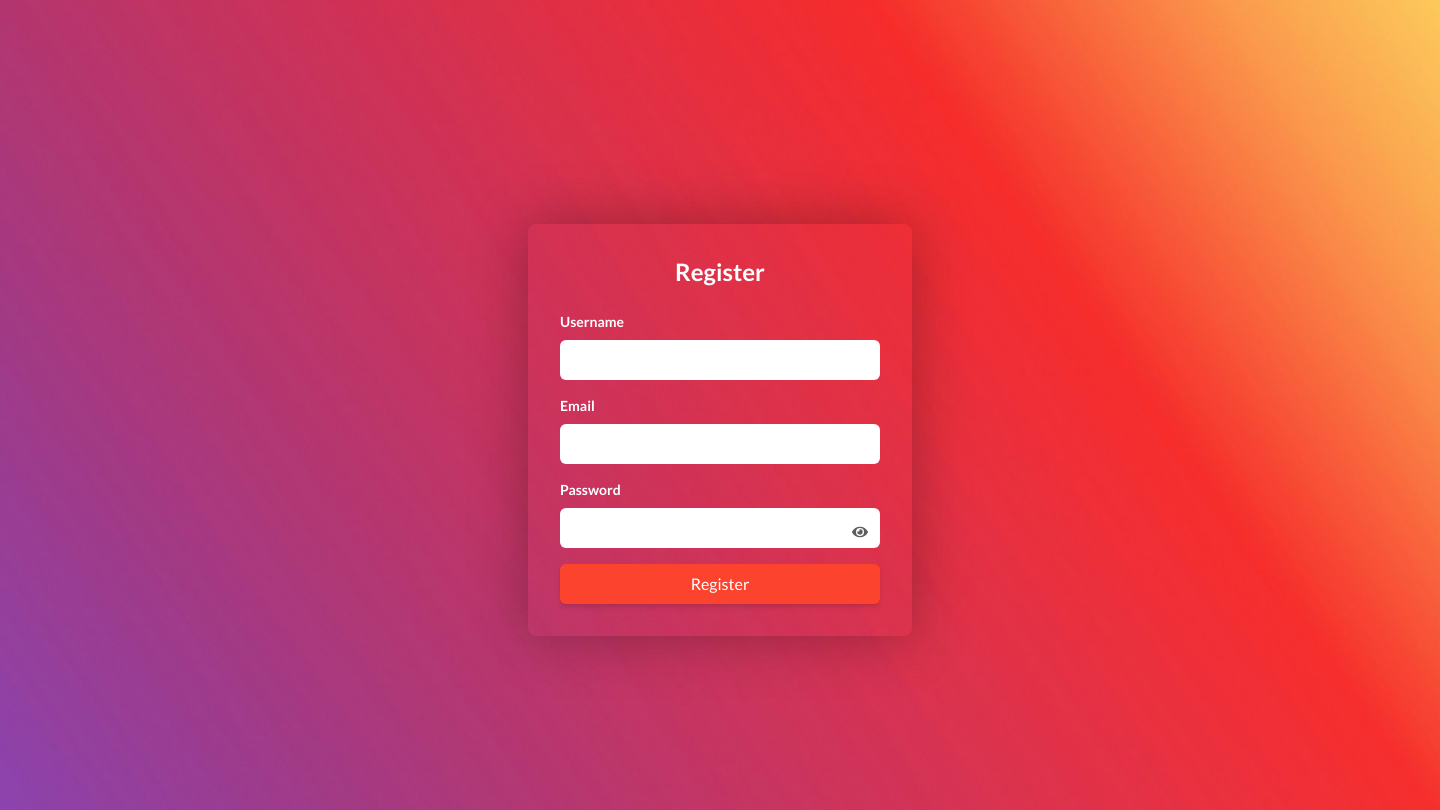
Scenario: Register › registers successfully and shows success message
The image size is (1440, 810).
In the field labelled "Username": [720, 360] box [560,340,880,380], type "alice"
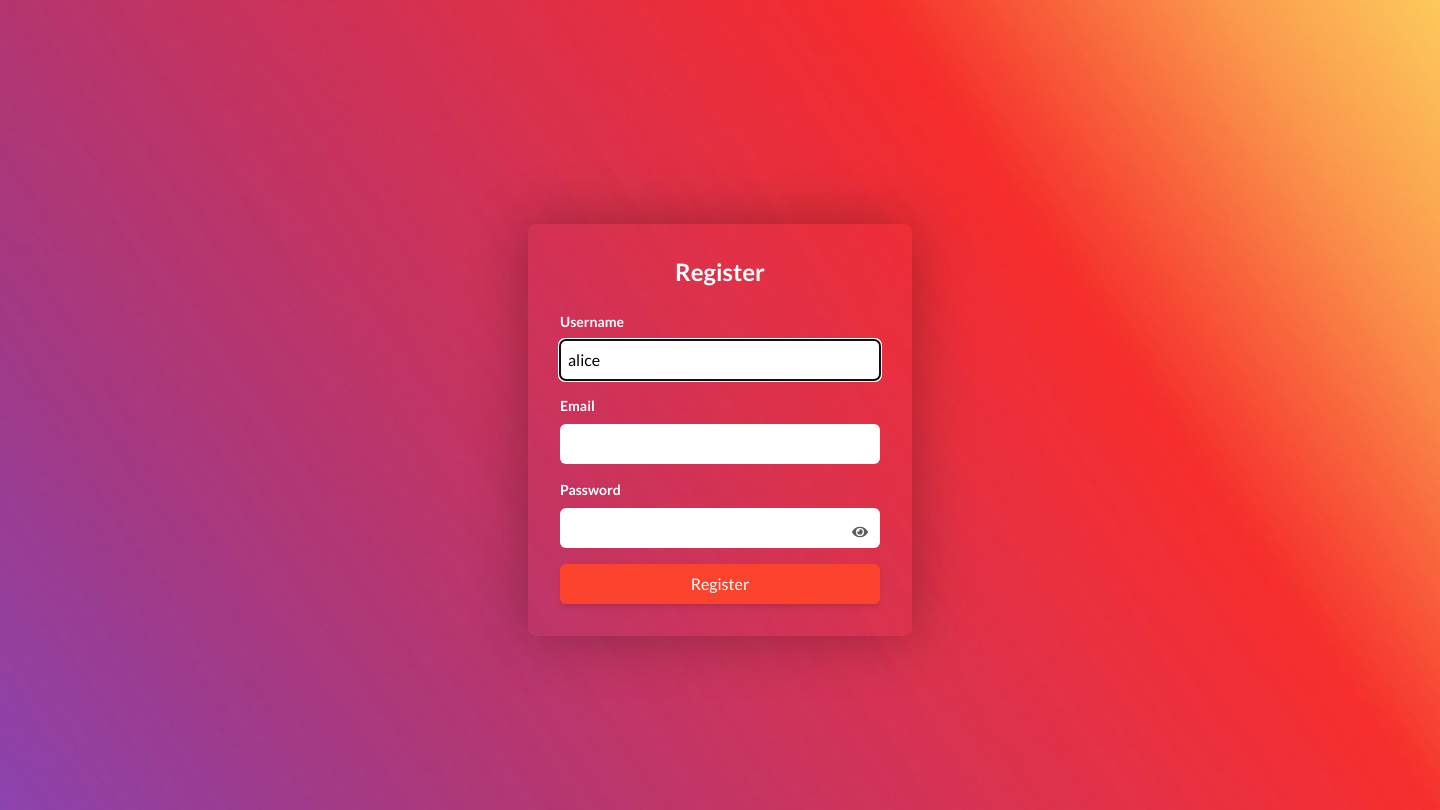
In the field labelled "Email": [720, 444] box [560,424,880,464], type "alice@example.com"
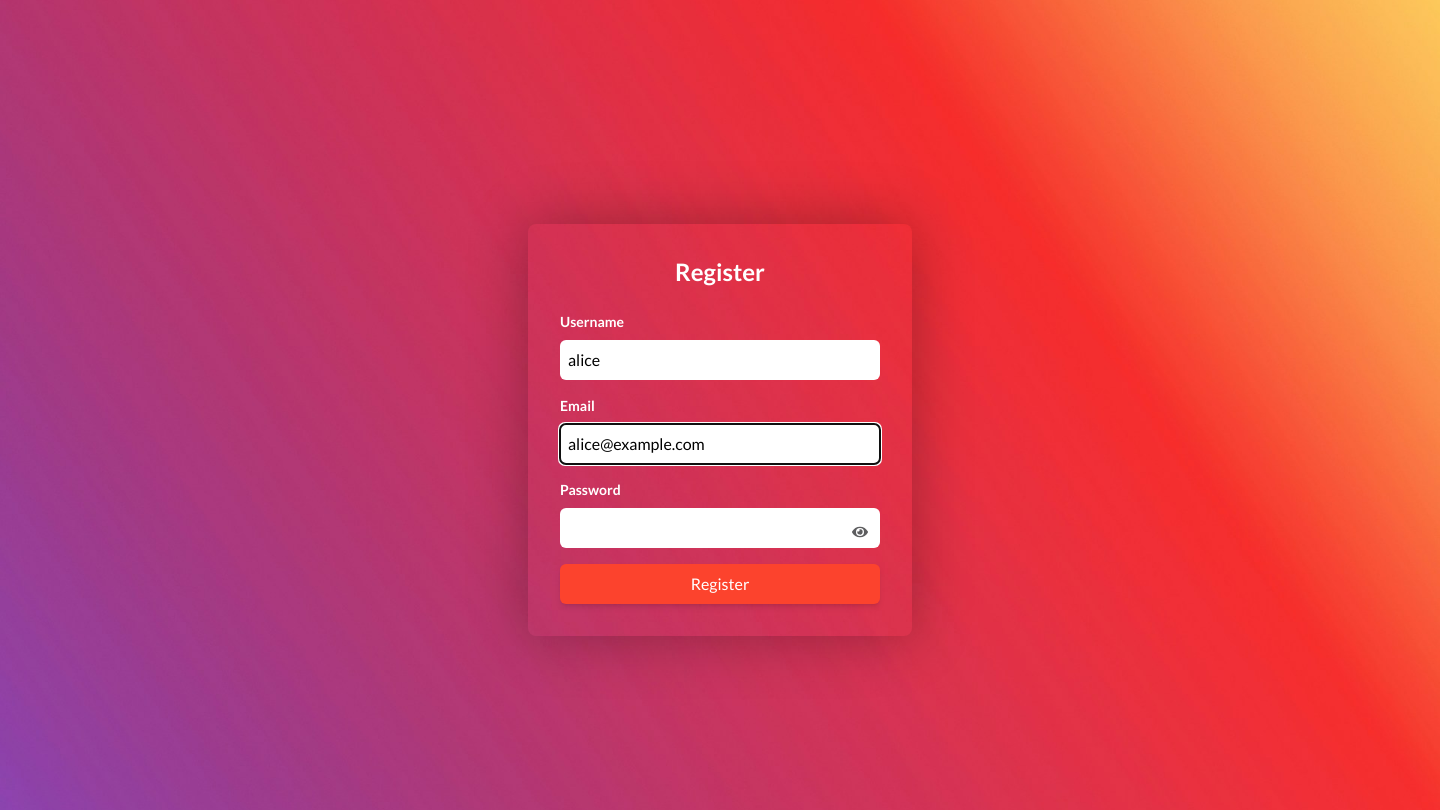
In the password field labelled "Password": [720, 528] box [560,508,880,548], type "secret123"
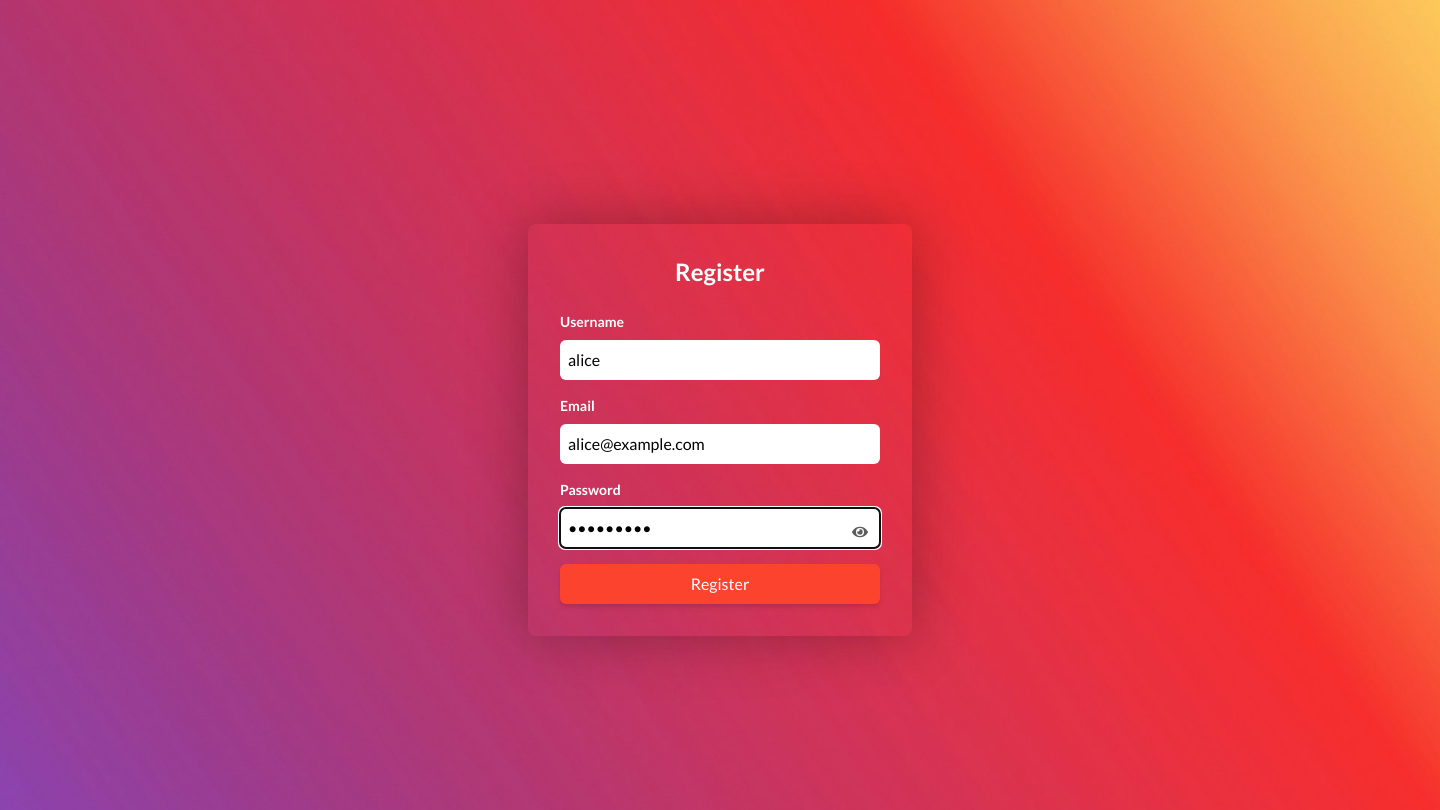
Click the button "Register": [720, 584] box [560,564,880,604]
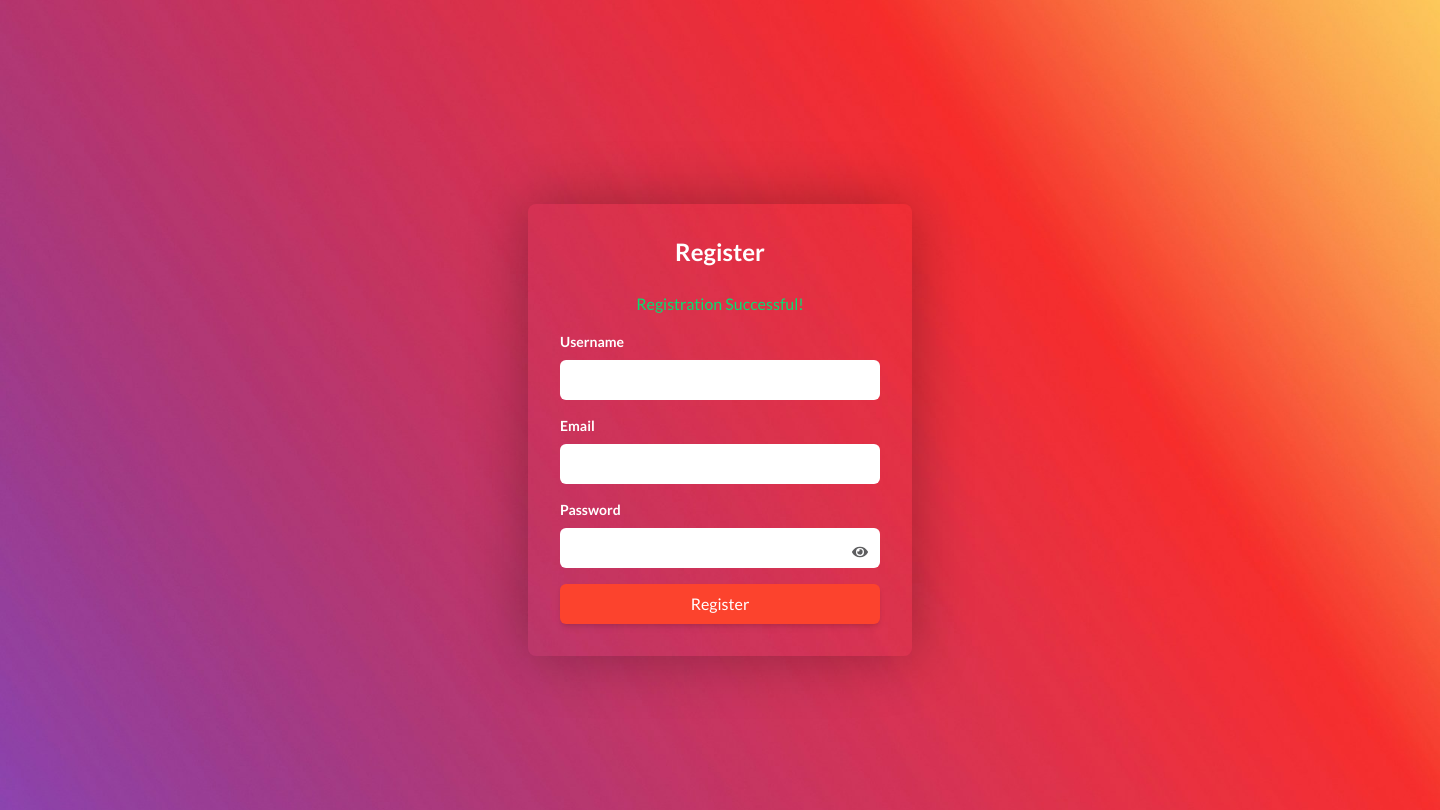
Expected: the text "Registration Successful!" is shown, [636,294,804,313]
